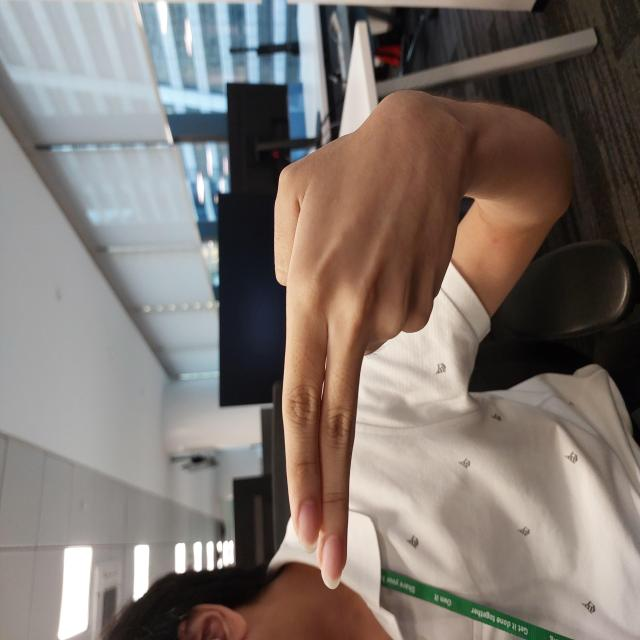H: (51, 270, 542, 462)
